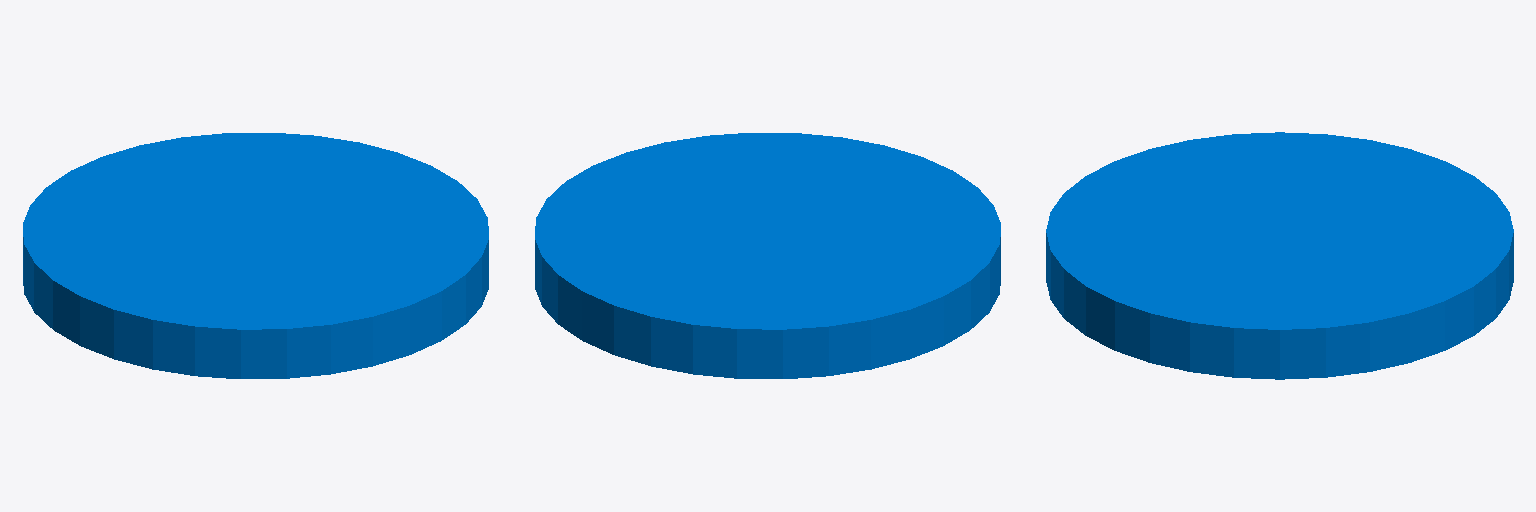
The model's file is Bumper.obj.
3 renders of one model, left to right at view 1: azimuth 30°, elevation 25°; view 2: azimuth 150°, elevation 25°; view 3: azimuth 270°, elevation 25°, orthographic.
Visible parts, largest first — view 1: 円柱; view 2: 円柱; view 3: 円柱.
Boxes of the visible parts, <box> form: 円柱: <box>23,133,488,378</box>; 円柱: <box>535,133,1000,378</box>; 円柱: <box>1046,132,1513,379</box>.
Bounding box in the file's own units: 2 × 0.2345 × 2.